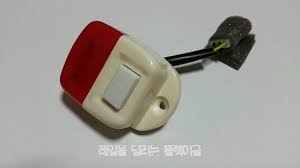bell: (56, 20, 174, 136)
